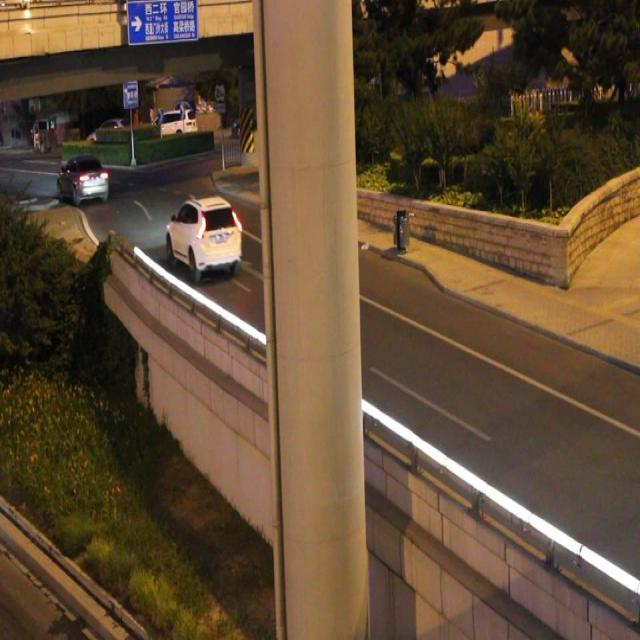car: (166, 194, 242, 278)
